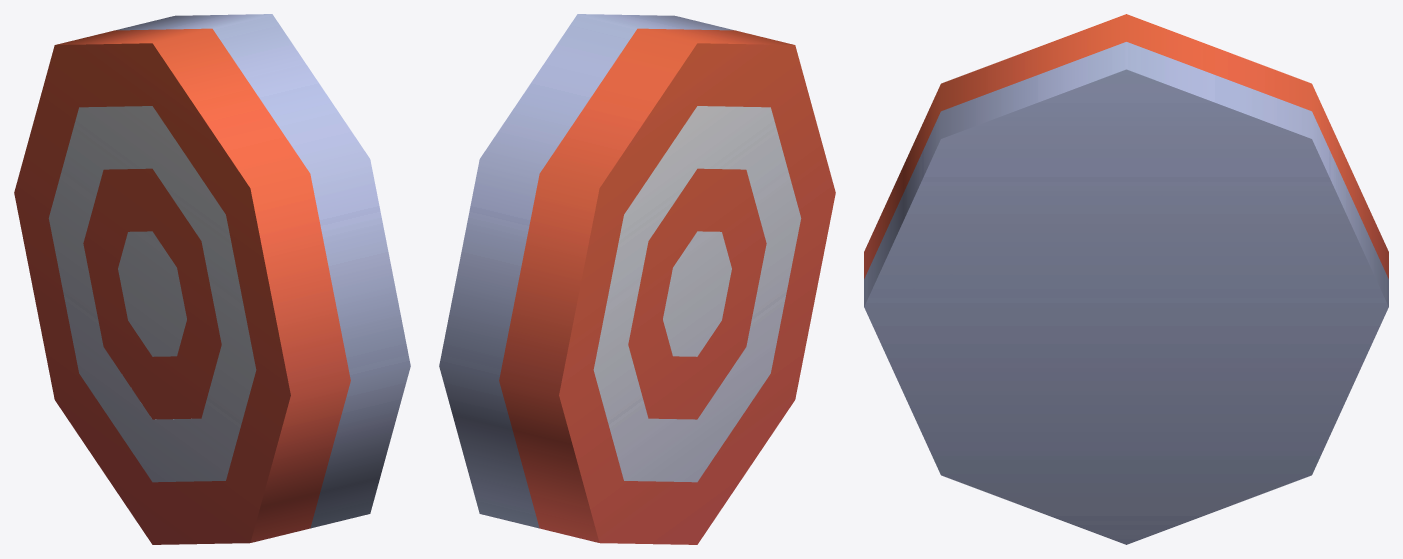
The model's file is target-b-round.glb.
3 views of the same model, side by side, from view 1: azimuth 30°, elevation 25°; view 2: azimuth 150°, elevation 25°; view 3: azimuth 270°, elevation 25° (orthographic). The views are drawn at different scales.
Visible parts, largest first — view 1: target-b-round; view 2: target-b-round; view 3: target-b-round.
Part boxes in pixels (bbox=[...]): target-b-round: bbox=[14, 14, 410, 544]; target-b-round: bbox=[439, 14, 835, 544]; target-b-round: bbox=[864, 14, 1388, 544].
Size of the model in its own units: 0.124 by 0.496 by 0.496.
1 material, 1 textured.
